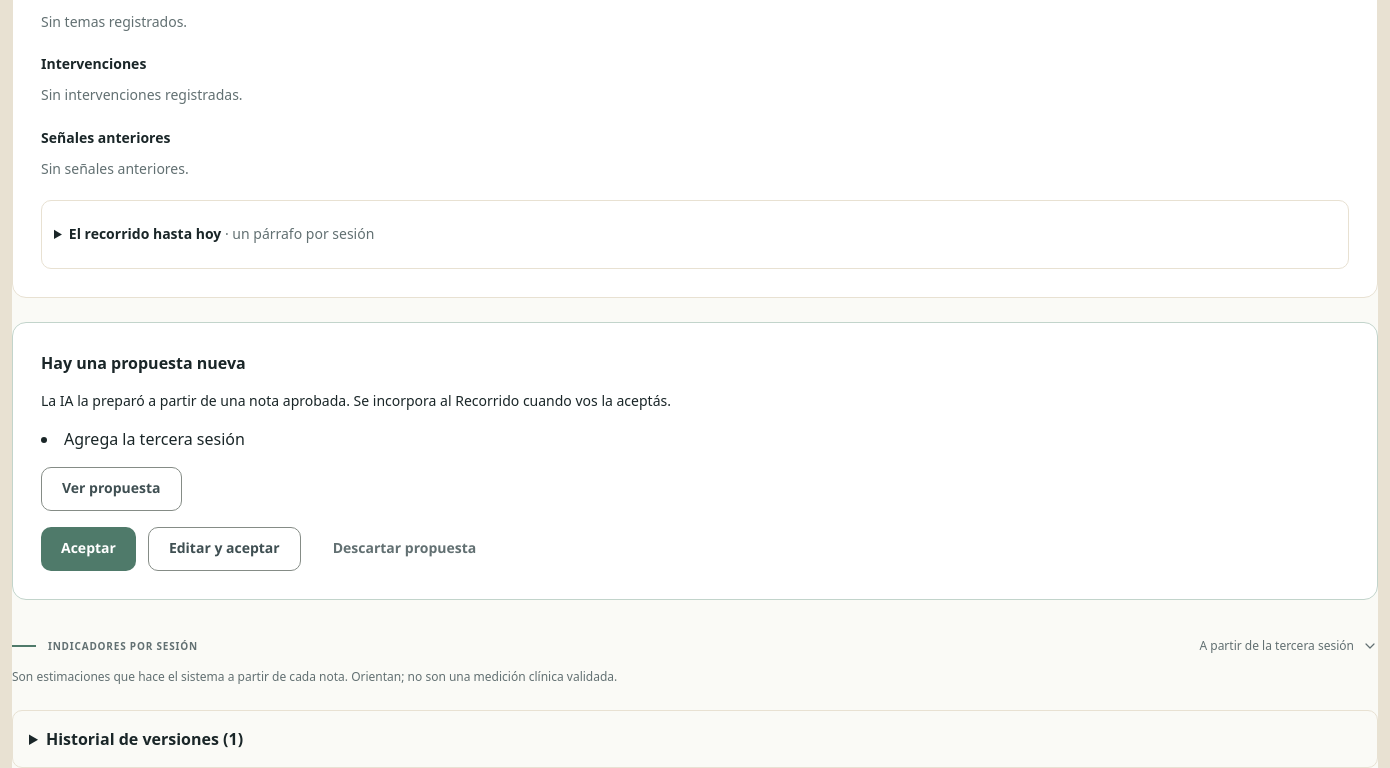
el orden del Recorrido › los indicadores dicen que son estimaciones aunque todavía no haya tres sesiones
(page scrolled)
Expected: the text "Son estimaciones que hace el sistema a partir de cada nota. Orientan; no son una medición clínica validada." is shown, [12,668,617,685]
# El estado vacío que explica las tres sesiones se conserva (plegado, como antes).
Click the button "Indicadores por sesión A partir de la tercera sesión" at (123, 646), box [12,624,1378,668]
(page scrolled)
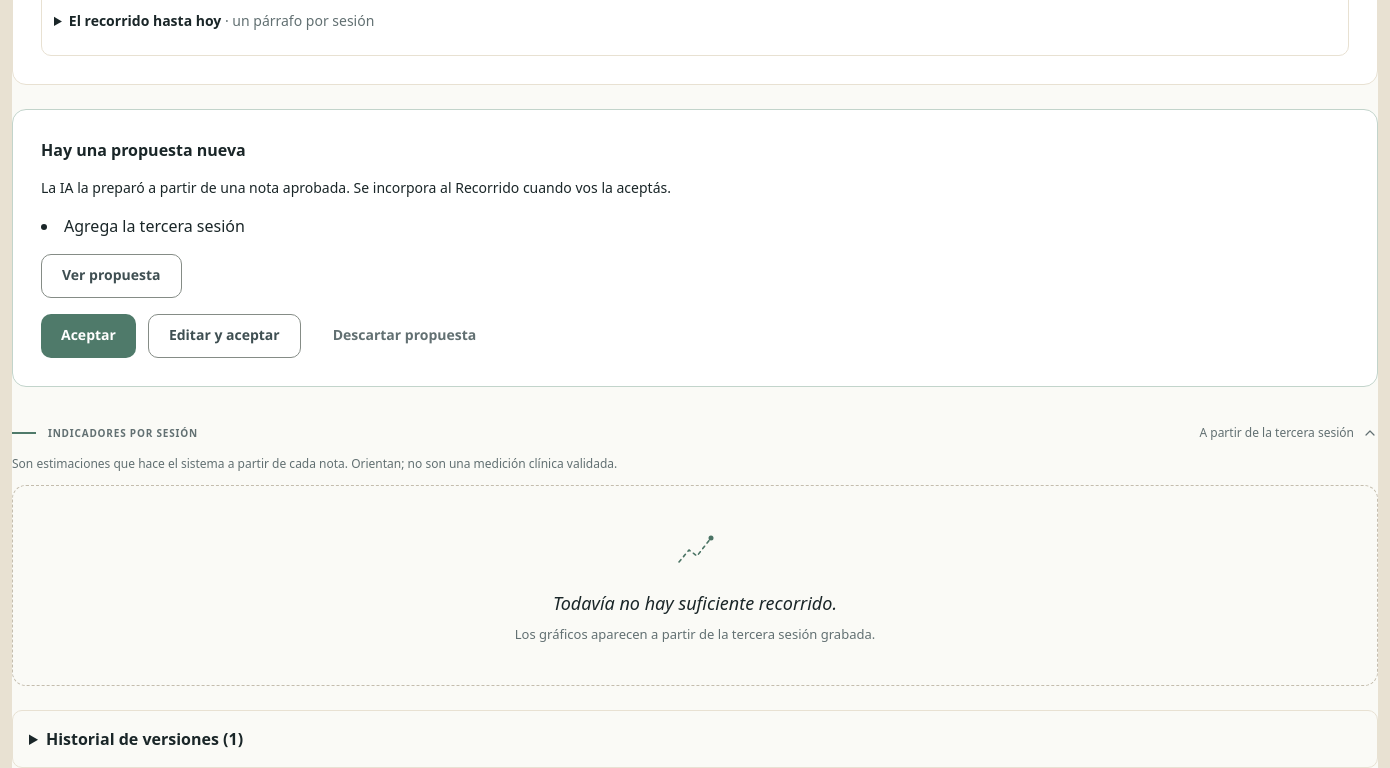
Expected: the text "Todavía no hay suficiente recorrido." is shown, [553,591,837,615]
